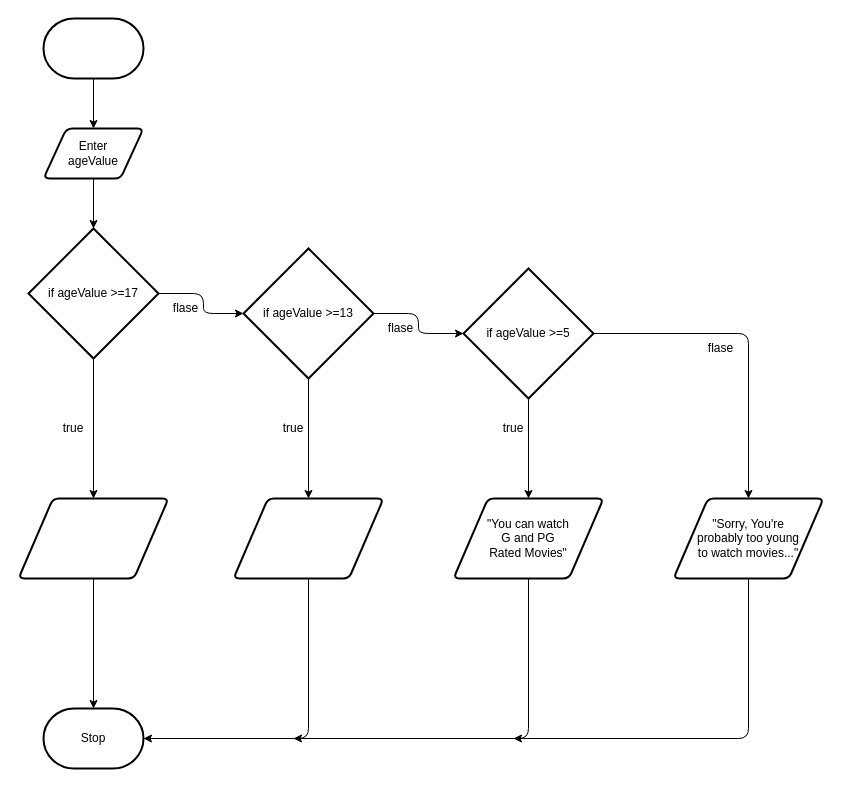
Image size: 841x786. Some labels were removed from this diagram. The shapes that lost their labels are listed below. From the top down, each one's centre as x and y in pixels, then its label:
(x=93, y=48): Start
(x=93, y=538): "You can watch R Rated Movies"
(x=308, y=538): "You can watch PG-13 Rated Movies"
